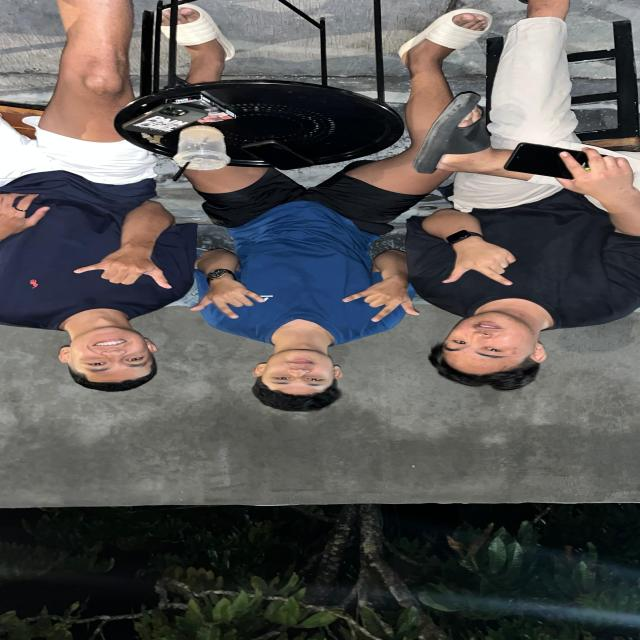nohelmet: (431, 308, 548, 395), (43, 319, 172, 396), (249, 341, 345, 417)
